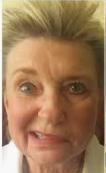strokeEyeMid: (10, 66, 94, 102)
strokeMouthSevere: (26, 125, 77, 147)
